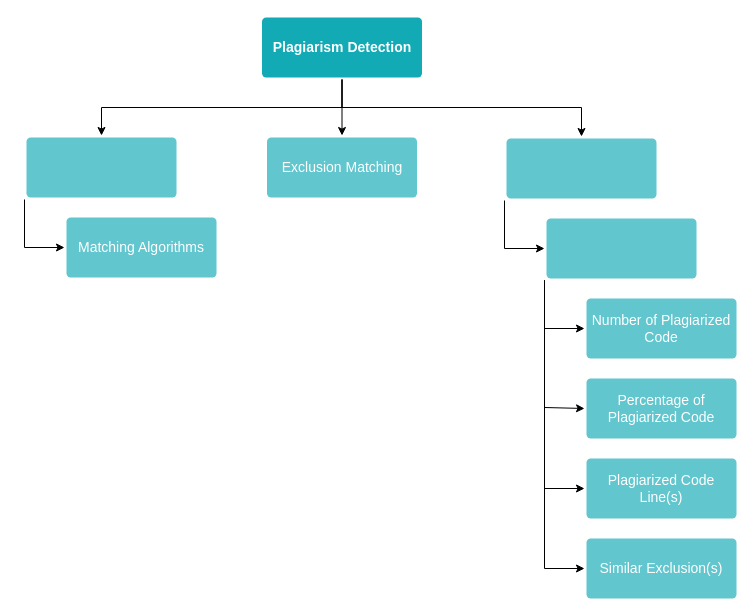
Some shapes in this 754 by 615 pixel diagram are drawn without their labels. Here are the shapes that lost their labels. From the top down, the centre of each, then its label:
(101,167): Source Line Matching
(581,168): Generate Results Report
(621,248): Textual
